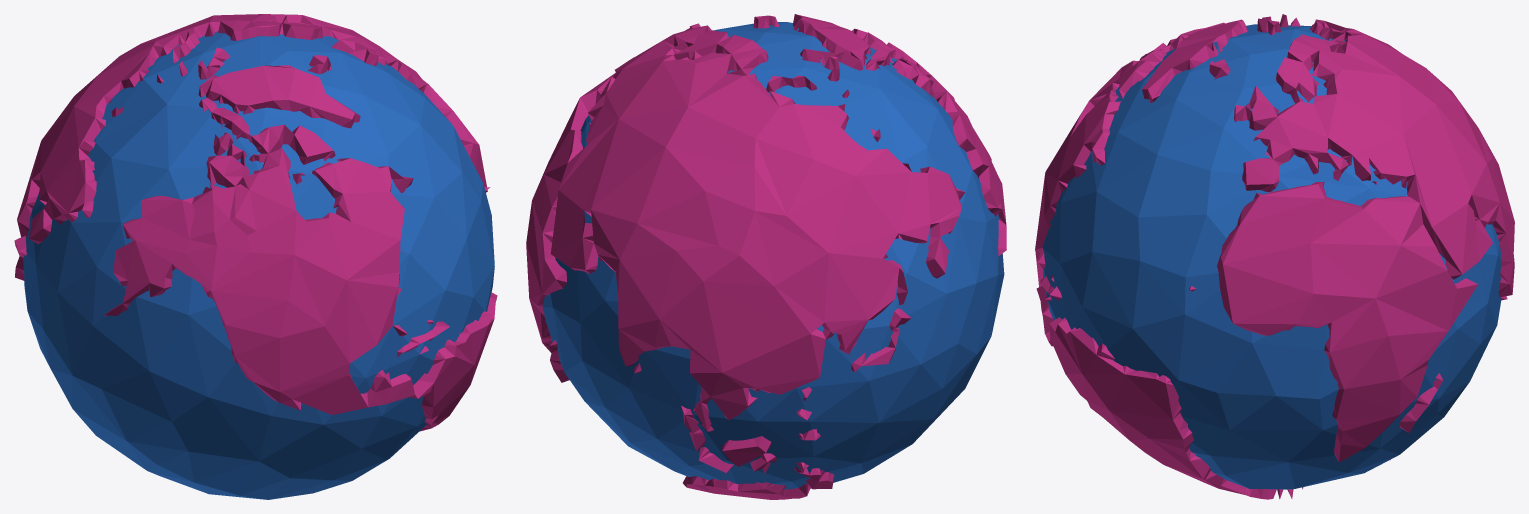
The model's file is planet.glb.
3 views of the same model, side by side, from view 1: azimuth 30°, elevation 25°; view 2: azimuth 150°, elevation 25°; view 3: azimuth 270°, elevation 25° (orthographic).
Parts seen in each view (by area): view 1: low_poly_earth; view 2: low_poly_earth; view 3: low_poly_earth.
Part boxes in pixels (x1,y1,x2,y2): low_poly_earth: [14, 14, 497, 499]; low_poly_earth: [526, 14, 1006, 499]; low_poly_earth: [1035, 14, 1514, 499].
Size of the model in its own units: 1.95 by 2.01 by 1.99.
